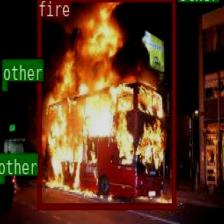fire: (36, 0, 174, 208)
